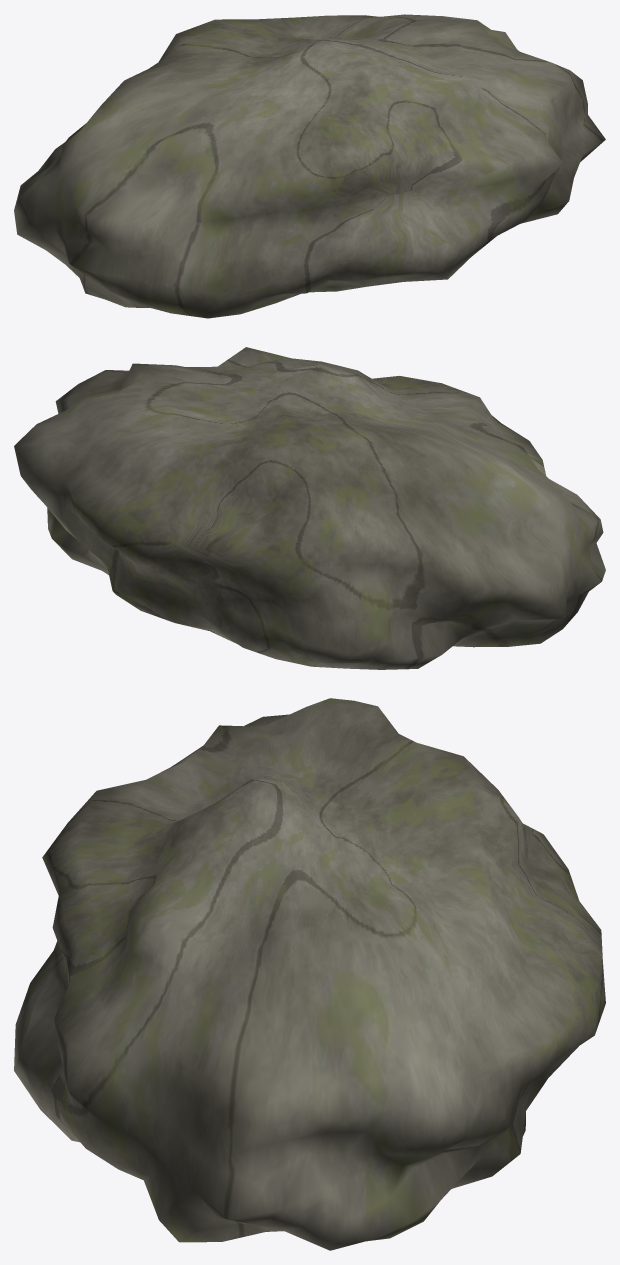
Rendered from garden-rock-1.glb.
3 renders of one model, top to bottom at view 1: azimuth 30°, elevation 25°; view 2: azimuth 150°, elevation 25°; view 3: azimuth 270°, elevation 25°, orthographic. The views are drawn at different scales.
Parts seen in each view (by area): view 1: Eroded stone with mineral texture; view 2: Eroded stone with mineral texture; view 3: Eroded stone with mineral texture.
Boxes of the visible parts, left/top/right/bottom form: Eroded stone with mineral texture: left=14, top=14, right=605, bottom=318; Eroded stone with mineral texture: left=14, top=347, right=605, bottom=669; Eroded stone with mineral texture: left=14, top=698, right=605, bottom=1250.
Size of the model in its own units: 2.53 by 0.9223 by 1.59.
1 material, 1 textured.
